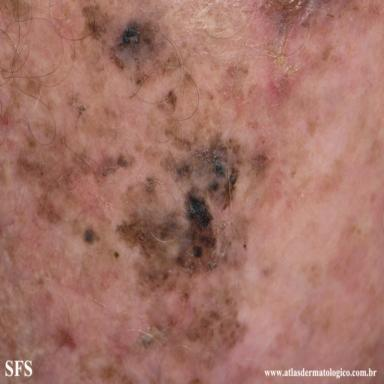Melanoma: (0, 1, 382, 384)
